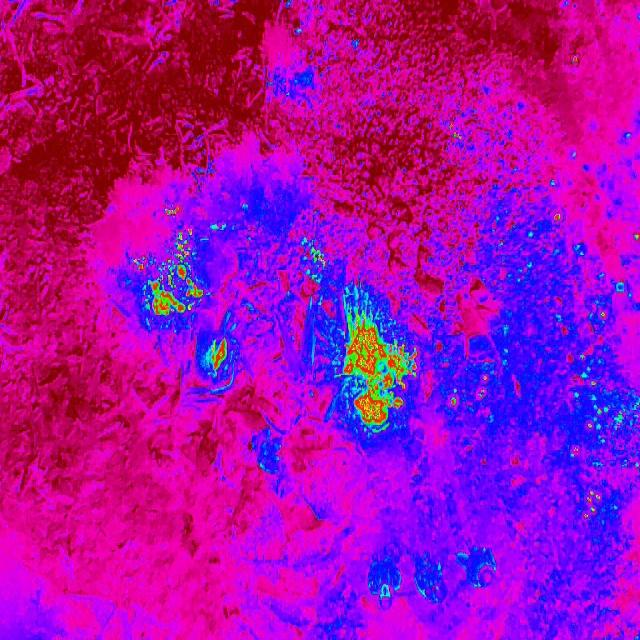fire: (525, 207, 640, 524), (340, 308, 419, 432), (133, 228, 204, 320), (442, 368, 489, 408), (206, 338, 229, 372), (308, 246, 328, 270), (447, 123, 465, 145), (166, 204, 180, 218)
